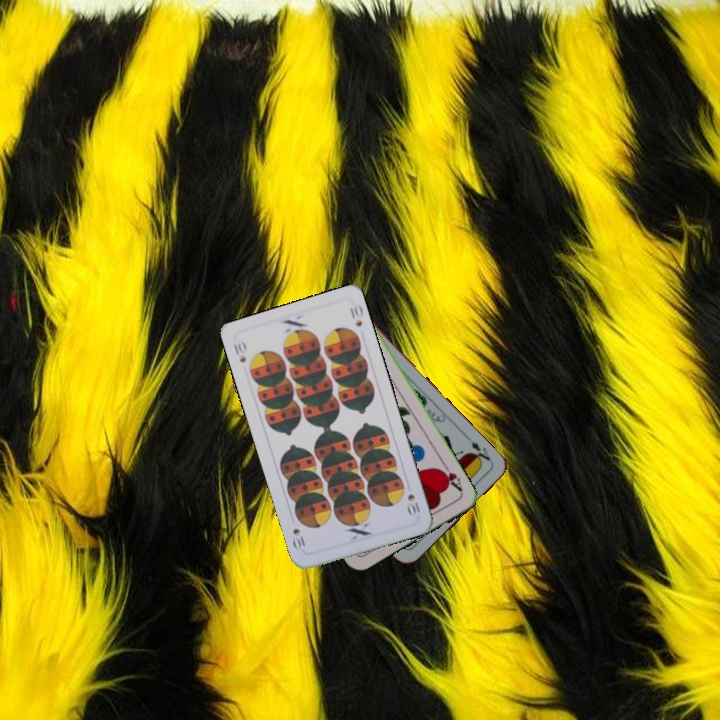EA: (463, 432, 494, 467)
HA: (434, 458, 465, 496)
S10: (403, 490, 424, 519), (229, 337, 249, 366)
